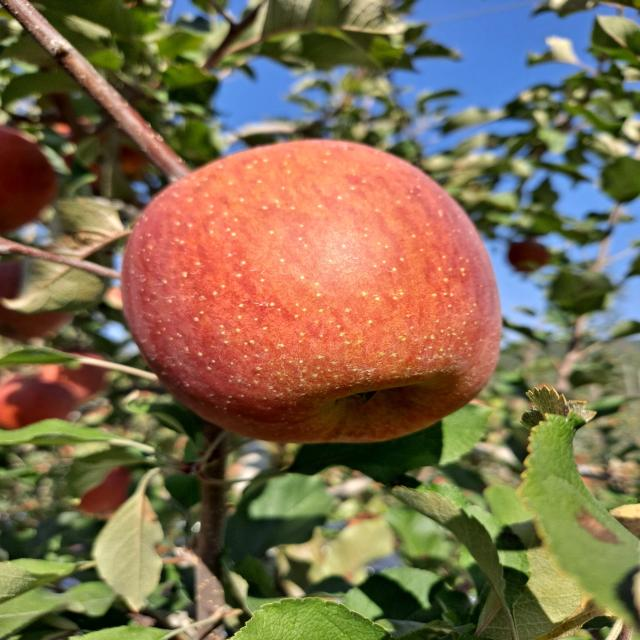fresh: (114, 128, 515, 453)
